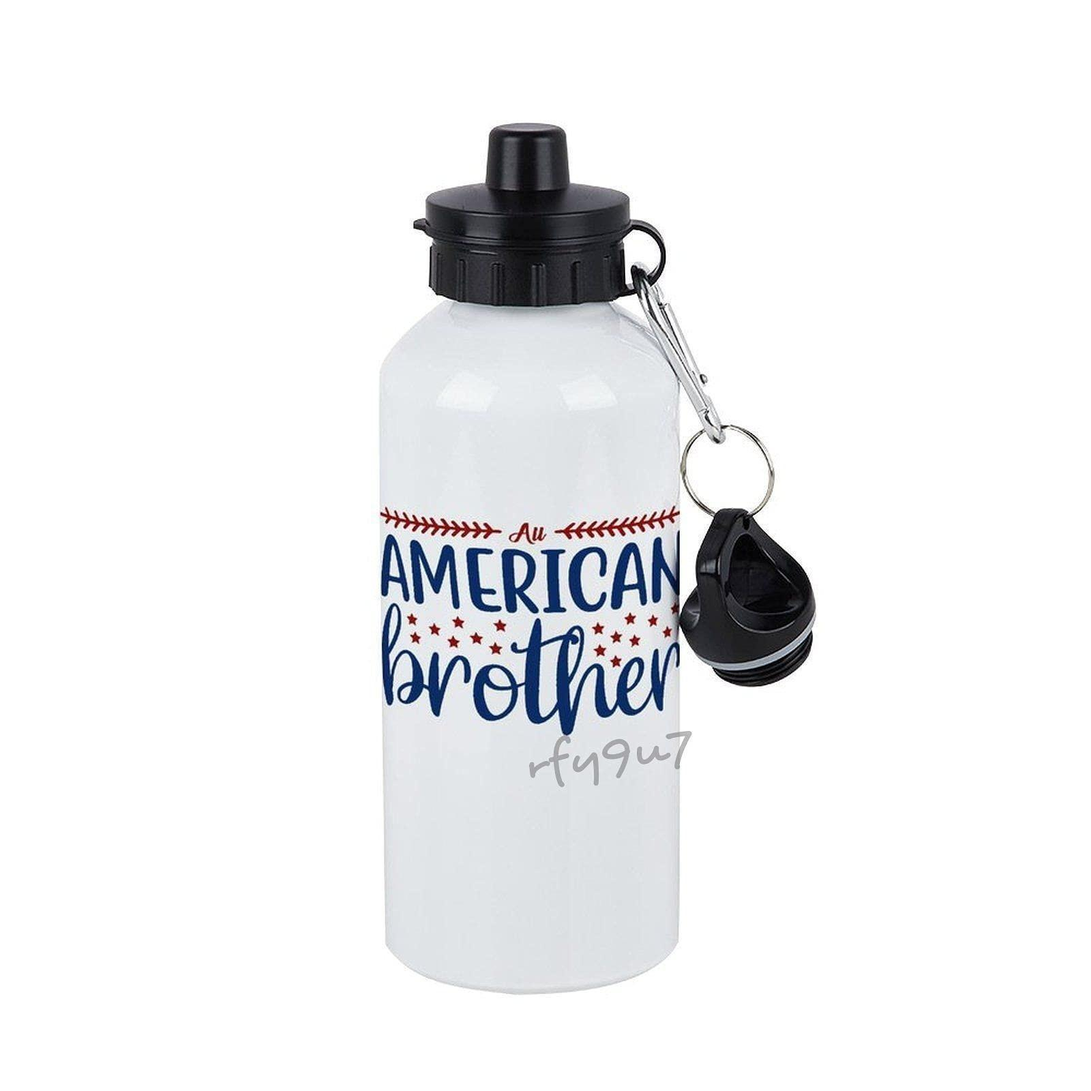gym bottle: (372, 117, 690, 995)
